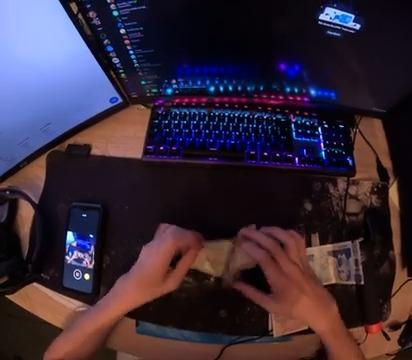50leva: (182, 229, 306, 296)
